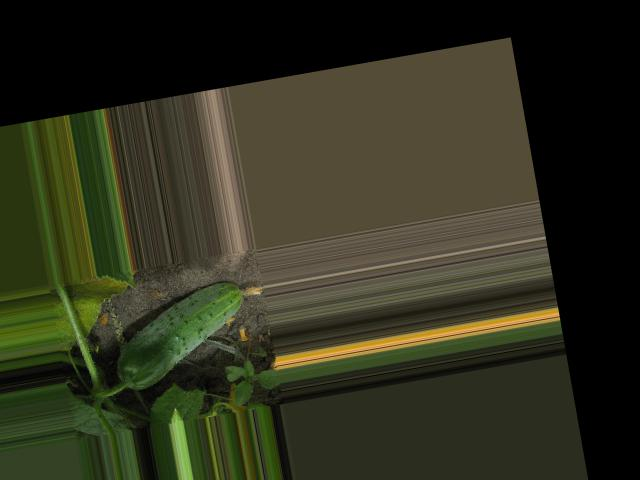cucumber: (105, 274, 276, 392)
